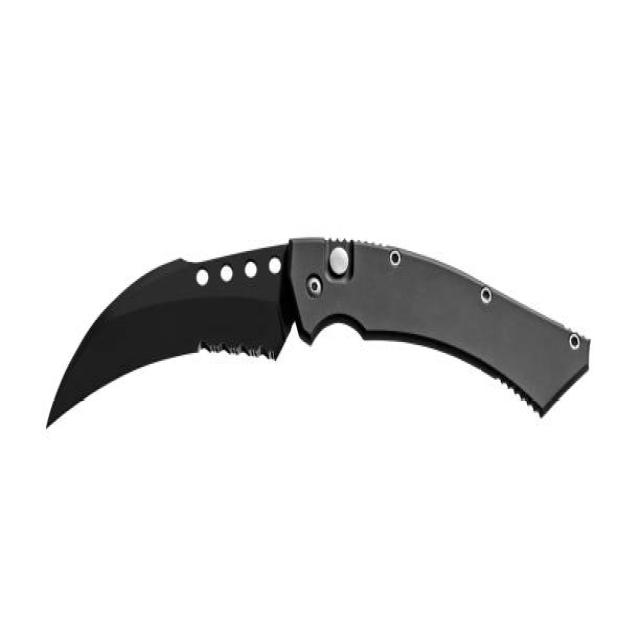knife: (36, 229, 596, 437)
